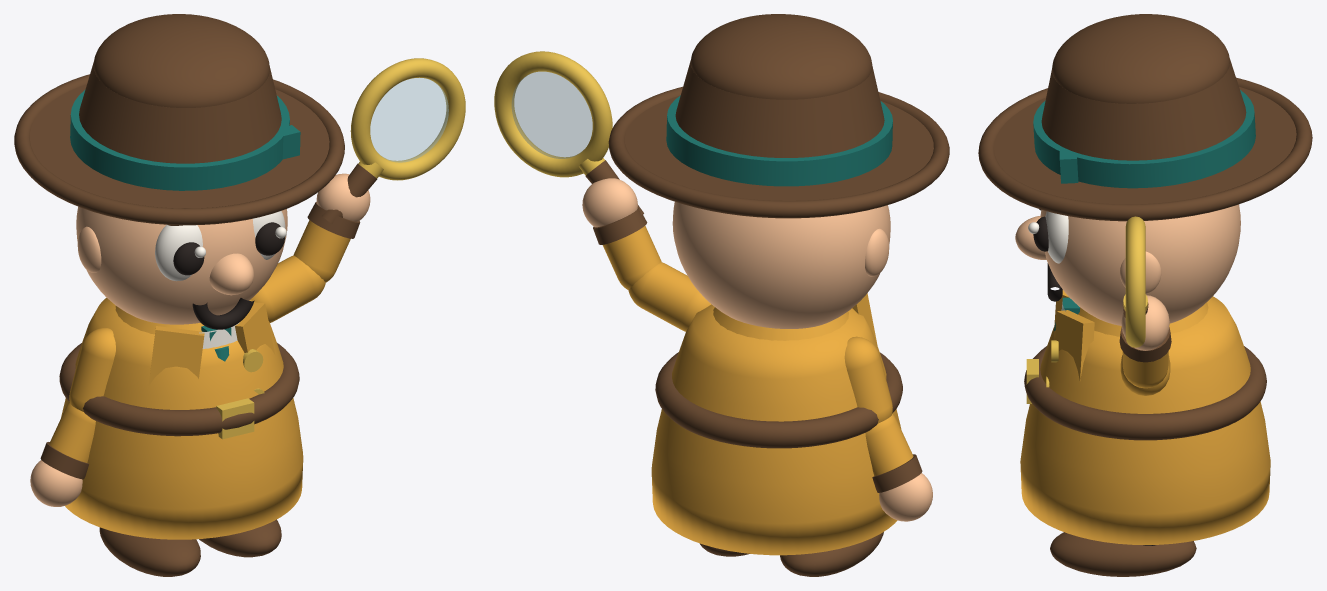
Rendered from detective.glb.
3 renders of one model, left to right at view 1: azimuth 30°, elevation 25°; view 2: azimuth 150°, elevation 25°; view 3: azimuth 270°, elevation 25°, orthographic. The views are drawn at different scales.
Parts seen in each view (by area): view 1: coat, hat_crown_top, head, hat_crown, hat_brim, hat_brim_lip, hat_band, belt, mag_rim, mag_lens, shoe_L, upperarm_R (+19 smaller); view 2: coat, head, hat_crown_top, hat_crown, hat_brim, hat_brim_lip, hat_band, belt, mag_rim, mag_lens, upperarm_R, upperarm_L (+9 smaller); view 3: coat, head, hat_crown_top, hat_crown, hat_brim, hat_brim_lip, belt, hat_band, shoe_R, mag_rim, lapel_R, hand_R (+8 smaller).
Boxes of the visible parts, <box> form: coat: <box>61,297,303,539</box>; hat_crown_top: <box>93,14,269,107</box>; head: <box>76,207,287,324</box>; hat_crown: <box>79,60,281,163</box>; hat_brim: <box>30,84,329,208</box>; hat_brim_lip: <box>14,74,344,225</box>; hat_band: <box>70,89,289,190</box>; belt: <box>59,343,299,436</box>; mag_rim: <box>350,58,465,180</box>; mag_lens: <box>370,78,448,162</box>; shoe_L: <box>99,527,200,576</box>; upperarm_R: <box>250,255,325,322</box>; coat: <box>651,304,901,555</box>; head: <box>672,201,890,328</box>; hat_crown_top: <box>690,14,872,99</box>; hat_crown: <box>675,60,884,157</box>; hat_brim: <box>625,95,933,200</box>; hat_brim_lip: <box>608,86,949,218</box>; hat_band: <box>666,95,892,186</box>; belt: <box>655,352,902,448</box>; mag_rim: <box>494,51,612,177</box>; mag_lens: <box>511,71,592,158</box>; upperarm_R: <box>628,262,711,331</box>; upperarm_L: <box>844,336,892,423</box>; coat: <box>1020,296,1270,544</box>; head: <box>1040,204,1240,325</box>; hat_crown_top: <box>1052,14,1229,103</box>; hat_crown: <box>1041,58,1246,160</box>; hat_brim: <box>994,87,1296,204</box>; hat_brim_lip: <box>978,77,1312,221</box>; belt: <box>1024,346,1266,440</box>; hat_band: <box>1033,90,1255,188</box>; shoe_R: <box>1050,532,1196,576</box>; mag_rim: <box>1125,216,1145,347</box>; lapel_R: <box>1055,310,1094,380</box>; hand_R: <box>1121,295,1169,350</box>.
Size of the model in its own units: 2.01 by 2.32 by 1.35.
